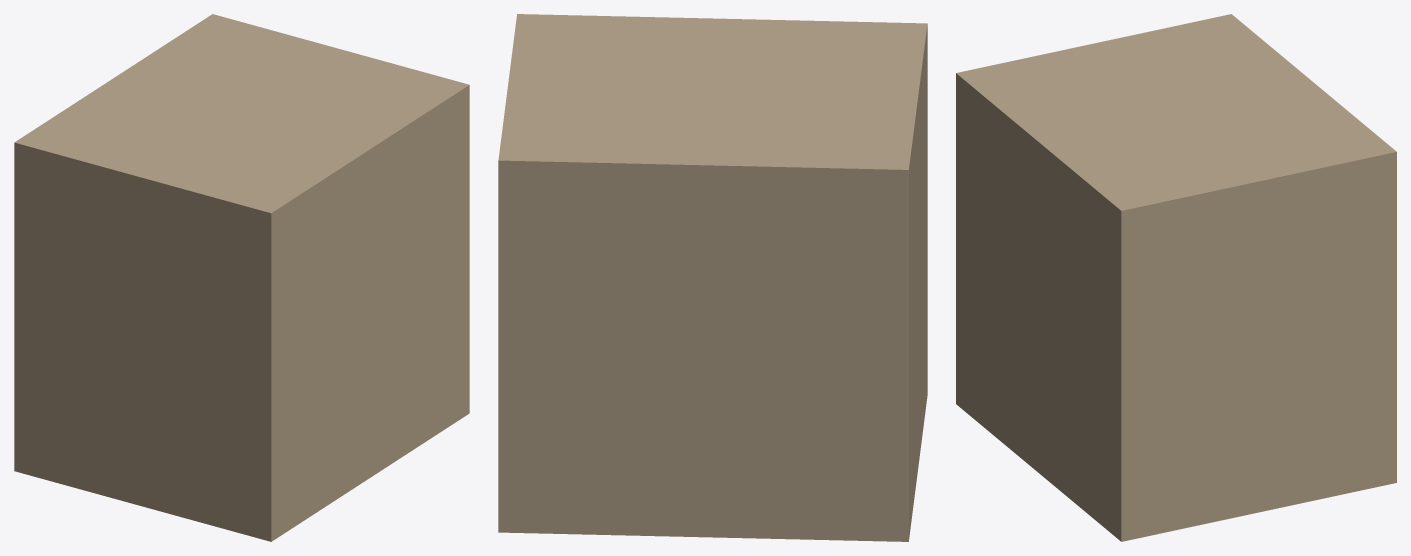
Rendered from bld_101805926.dae.
3 views of the same model, side by side, from view 1: azimuth 30°, elevation 25°; view 2: azimuth 150°, elevation 25°; view 3: azimuth 270°, elevation 25° (orthographic). The views are drawn at different scales.
Visible parts, largest first — view 1: bld_101805926; view 2: bld_101805926; view 3: bld_101805926.
Part boxes in pixels (bbox=[...]): bld_101805926: bbox=[14, 14, 469, 541]; bld_101805926: bbox=[498, 14, 927, 541]; bld_101805926: bbox=[956, 14, 1396, 541].
Bounding box in the file's own units: 10.21 × 9.66 × 8.
